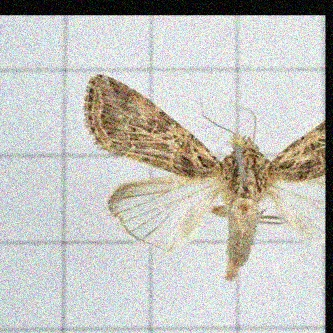Spodoptera litura: (81, 73, 325, 282)
